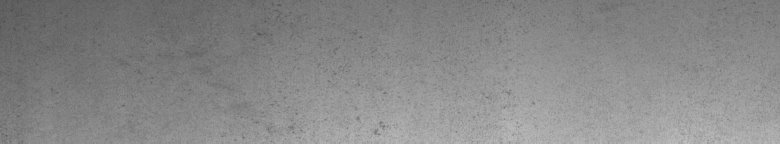ib: (253, 4, 397, 136)
